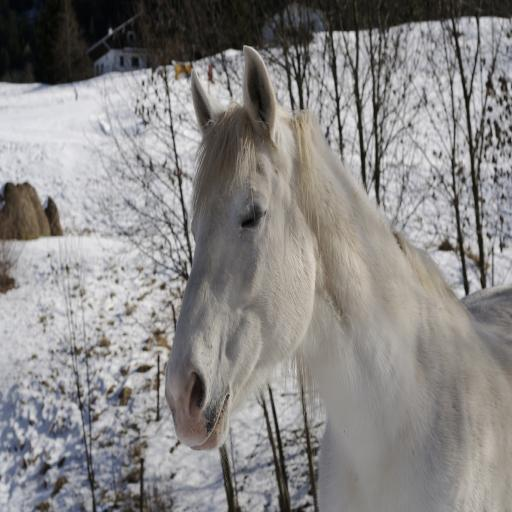Horse: (166, 44, 512, 512)
